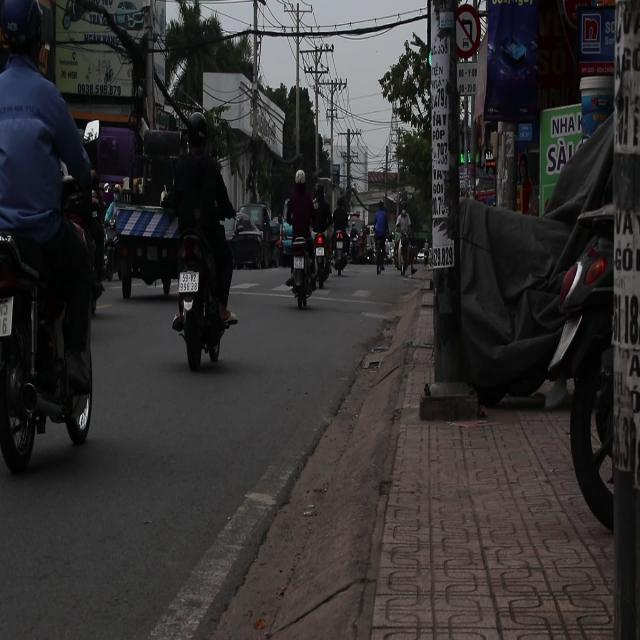car: (231, 203, 278, 269)
motorbike: (0, 173, 99, 441), (174, 231, 234, 372), (285, 231, 329, 306), (332, 225, 351, 277)
